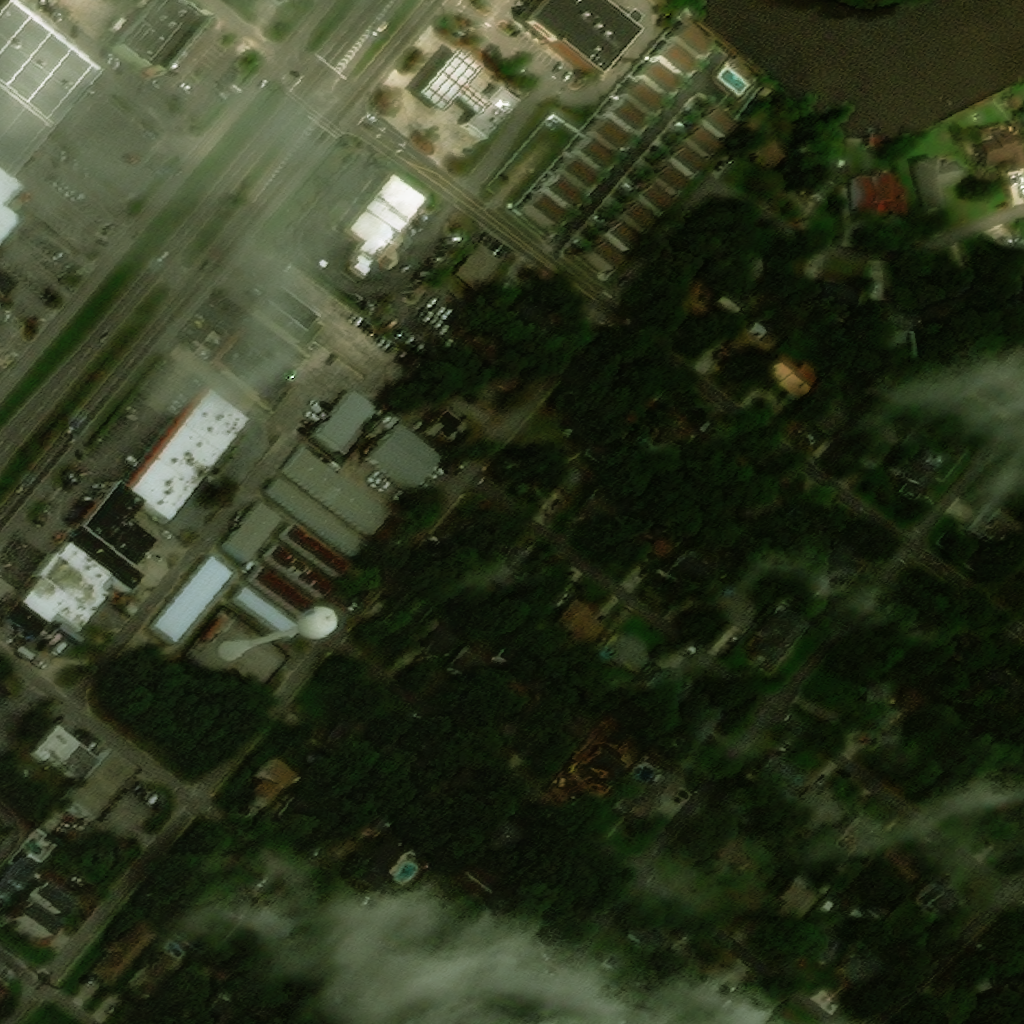no_damage: (128, 383, 248, 521), (0, 0, 101, 126), (286, 445, 390, 535), (344, 170, 427, 279), (522, 0, 638, 74), (152, 554, 234, 645), (269, 478, 365, 555), (82, 479, 156, 566), (118, 0, 207, 71), (216, 330, 291, 405), (69, 524, 148, 592), (66, 747, 136, 820), (0, 83, 53, 177), (418, 48, 489, 114), (370, 423, 440, 487), (469, 804, 532, 871), (40, 551, 108, 613), (94, 919, 156, 987), (224, 500, 284, 563), (315, 389, 374, 451), (617, 770, 682, 826), (267, 543, 333, 598), (252, 564, 316, 619), (284, 522, 349, 576), (351, 837, 411, 895), (31, 575, 93, 631), (754, 608, 811, 668), (236, 585, 300, 638), (925, 620, 984, 674), (464, 85, 518, 140), (643, 665, 695, 721), (682, 696, 733, 749), (558, 598, 608, 652), (59, 541, 114, 590), (891, 443, 939, 499), (766, 353, 823, 400), (933, 369, 981, 424), (319, 712, 370, 763), (453, 241, 503, 291), (969, 501, 1020, 550), (794, 784, 845, 833), (267, 284, 320, 331), (854, 172, 909, 217), (915, 156, 961, 209), (250, 756, 295, 810), (976, 121, 1023, 172), (976, 655, 1023, 705), (865, 683, 902, 746), (980, 332, 1023, 385), (917, 870, 960, 921), (454, 331, 502, 376), (759, 754, 808, 797), (5, 900, 57, 940), (709, 589, 757, 632), (974, 953, 1023, 994), (501, 301, 547, 344), (730, 321, 772, 368), (547, 705, 589, 752), (842, 951, 888, 993), (25, 881, 71, 923), (821, 540, 861, 587), (995, 254, 1023, 320), (879, 847, 920, 892), (34, 723, 80, 763), (280, 795, 323, 837), (6, 599, 49, 639), (874, 299, 913, 343), (608, 631, 652, 670), (0, 855, 36, 901), (803, 922, 843, 963), (919, 290, 961, 326), (0, 170, 21, 241), (615, 198, 654, 236), (632, 179, 670, 217), (600, 217, 639, 254), (679, 124, 718, 161), (555, 155, 595, 191), (586, 117, 627, 152), (618, 80, 659, 115), (523, 192, 562, 228), (634, 62, 675, 96), (668, 22, 705, 59), (648, 161, 686, 197), (539, 173, 578, 208), (650, 42, 690, 76), (695, 105, 733, 140), (602, 100, 642, 133), (664, 143, 701, 178), (571, 137, 610, 170), (64, 742, 99, 778), (586, 236, 623, 270), (426, 409, 464, 442), (360, 805, 396, 839), (22, 589, 57, 621), (841, 843, 871, 874), (0, 264, 22, 303), (188, 856, 217, 883), (59, 622, 85, 644), (718, 293, 742, 315), (809, 569, 831, 590), (905, 686, 925, 709), (794, 874, 810, 889), (0, 983, 10, 1004), (869, 135, 885, 148), (0, 686, 10, 706), (24, 852, 38, 866), (759, 86, 773, 99), (334, 990, 347, 1004), (215, 901, 229, 914), (1009, 93, 1020, 107), (318, 258, 329, 267)
unclassified: (960, 769, 1023, 824), (574, 342, 630, 403), (524, 441, 584, 494), (128, 952, 184, 1006), (665, 273, 718, 326), (473, 543, 531, 589), (431, 758, 483, 809), (584, 488, 638, 537), (448, 642, 500, 692), (739, 473, 783, 528), (808, 389, 855, 440), (414, 616, 465, 662), (775, 879, 822, 928), (780, 504, 829, 551), (656, 405, 702, 455), (744, 120, 789, 169), (702, 832, 756, 872), (374, 738, 422, 783), (499, 676, 549, 719), (250, 905, 298, 947), (668, 550, 717, 591), (500, 918, 543, 964), (807, 279, 858, 316), (213, 875, 257, 917), (525, 566, 570, 607), (630, 519, 672, 561), (801, 156, 840, 200), (327, 961, 371, 998), (724, 249, 767, 286), (288, 934, 329, 972), (584, 982, 622, 1022), (255, 986, 296, 1023), (618, 383, 657, 420), (698, 975, 733, 1014), (386, 596, 422, 633), (847, 814, 884, 849), (484, 954, 521, 987), (668, 947, 704, 980), (631, 920, 668, 952), (457, 522, 490, 556), (727, 1002, 775, 1023), (199, 996, 233, 1023), (712, 447, 742, 477), (365, 1001, 402, 1023), (531, 934, 549, 953), (520, 533, 538, 551), (463, 969, 479, 985), (605, 955, 619, 969), (691, 990, 705, 1003), (239, 911, 248, 921)
